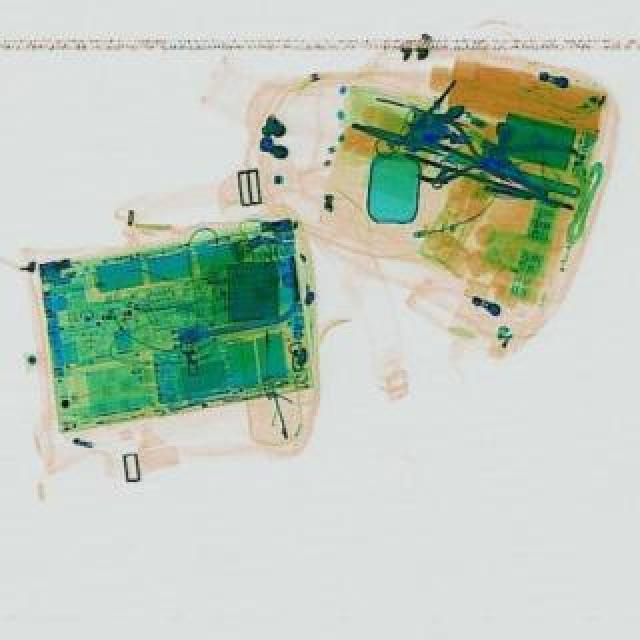wrench: (468, 116, 596, 210), (410, 116, 518, 202)
